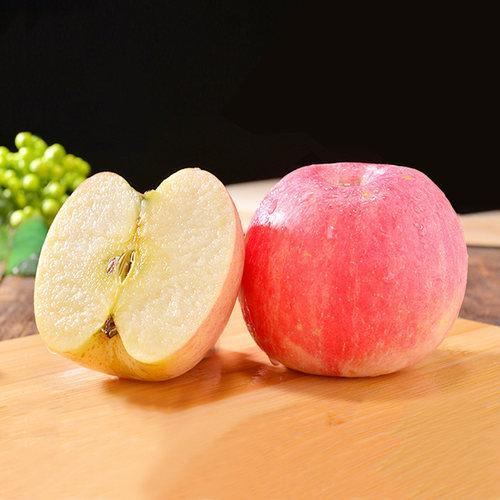apple: (237, 165, 465, 383), (32, 167, 245, 383)
